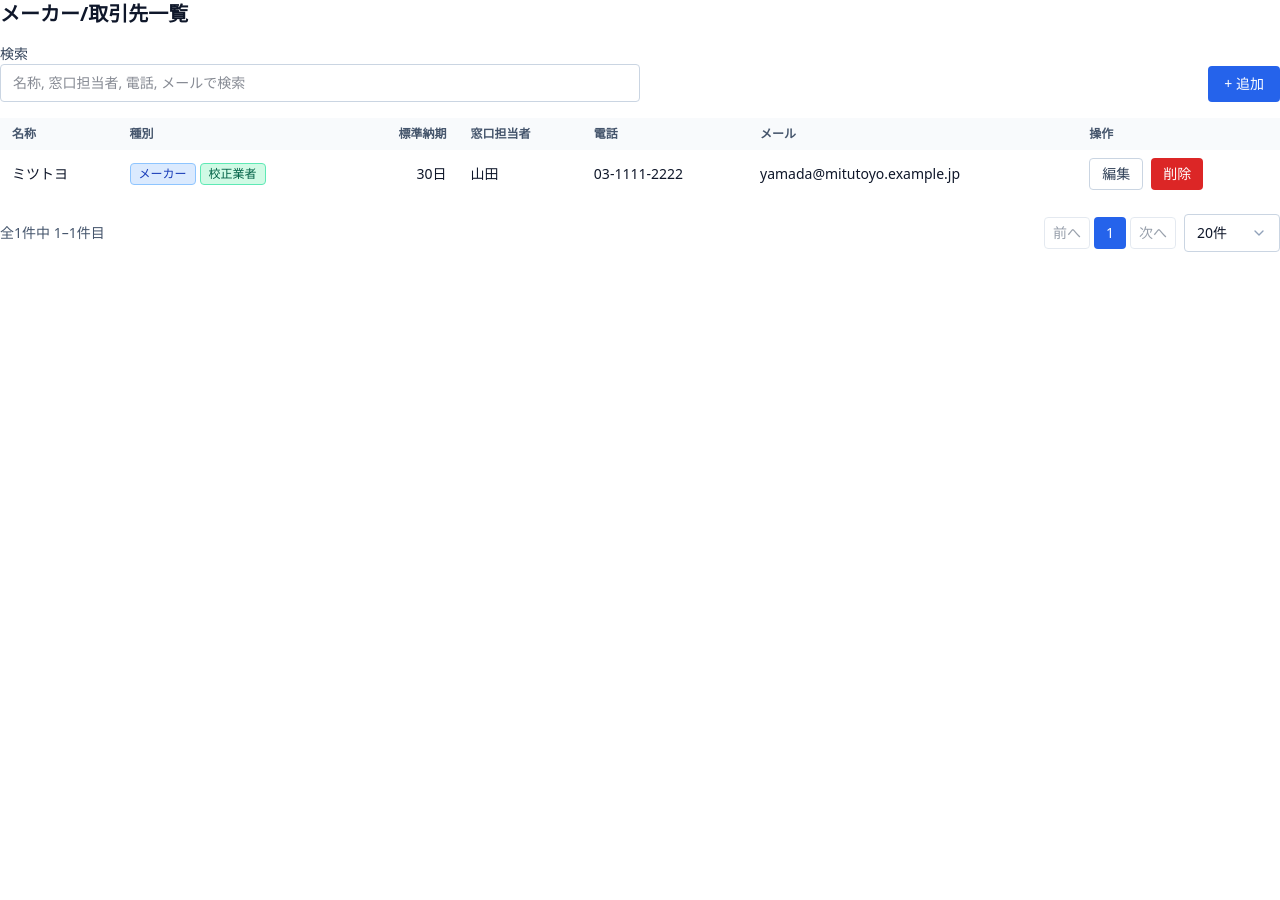
VendorList: 編集 › プリフィルされた値を変更して保存すると一覧に反映される
Click the button "編集".
click(1116, 174)  # box [1089, 158, 1143, 190]
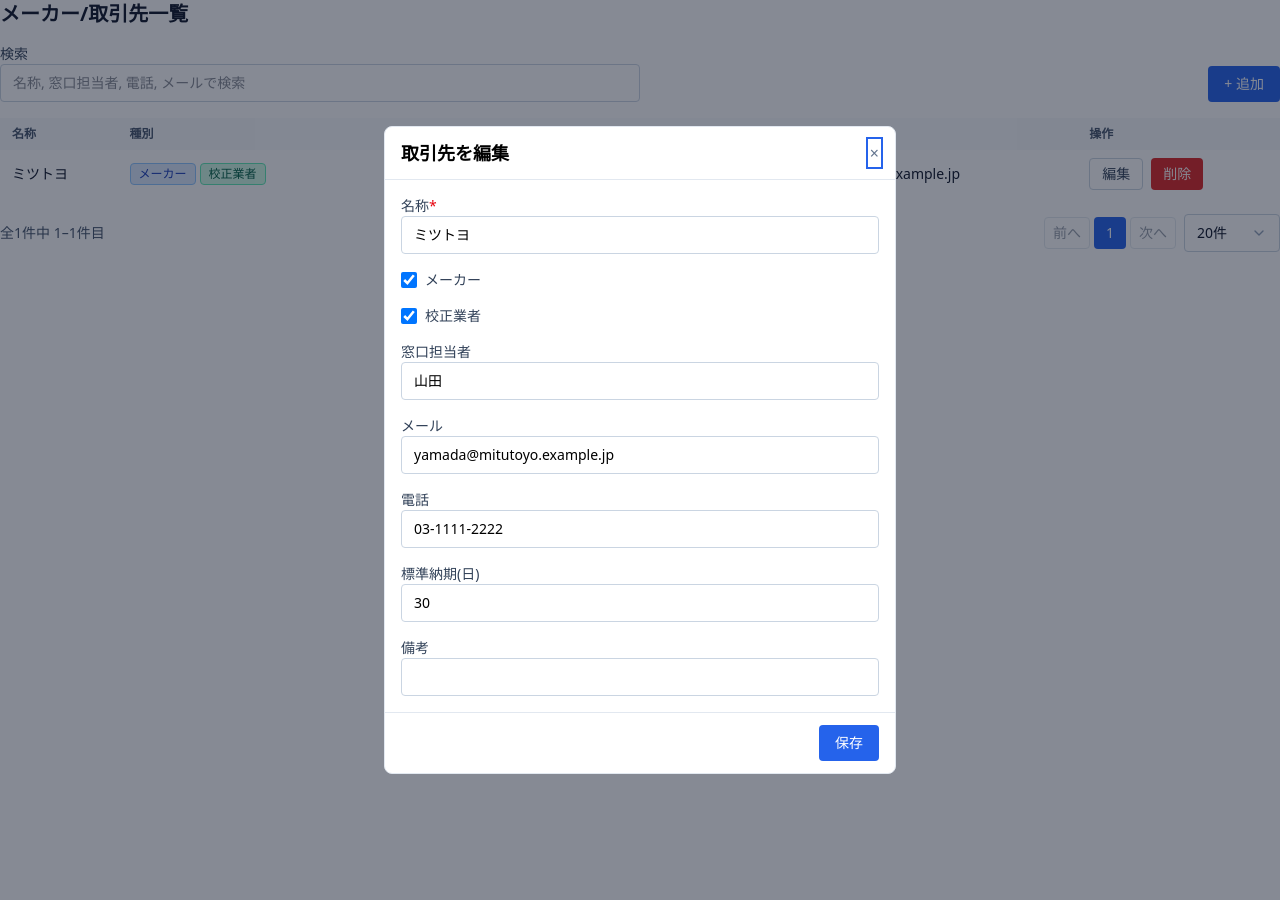
Expected: the field labelled "名称" holds "ミツトヨ"
Replace the text in the field labelled "名称" with "ミツトヨ株式会社" at (640, 235), box [401, 216, 879, 254]
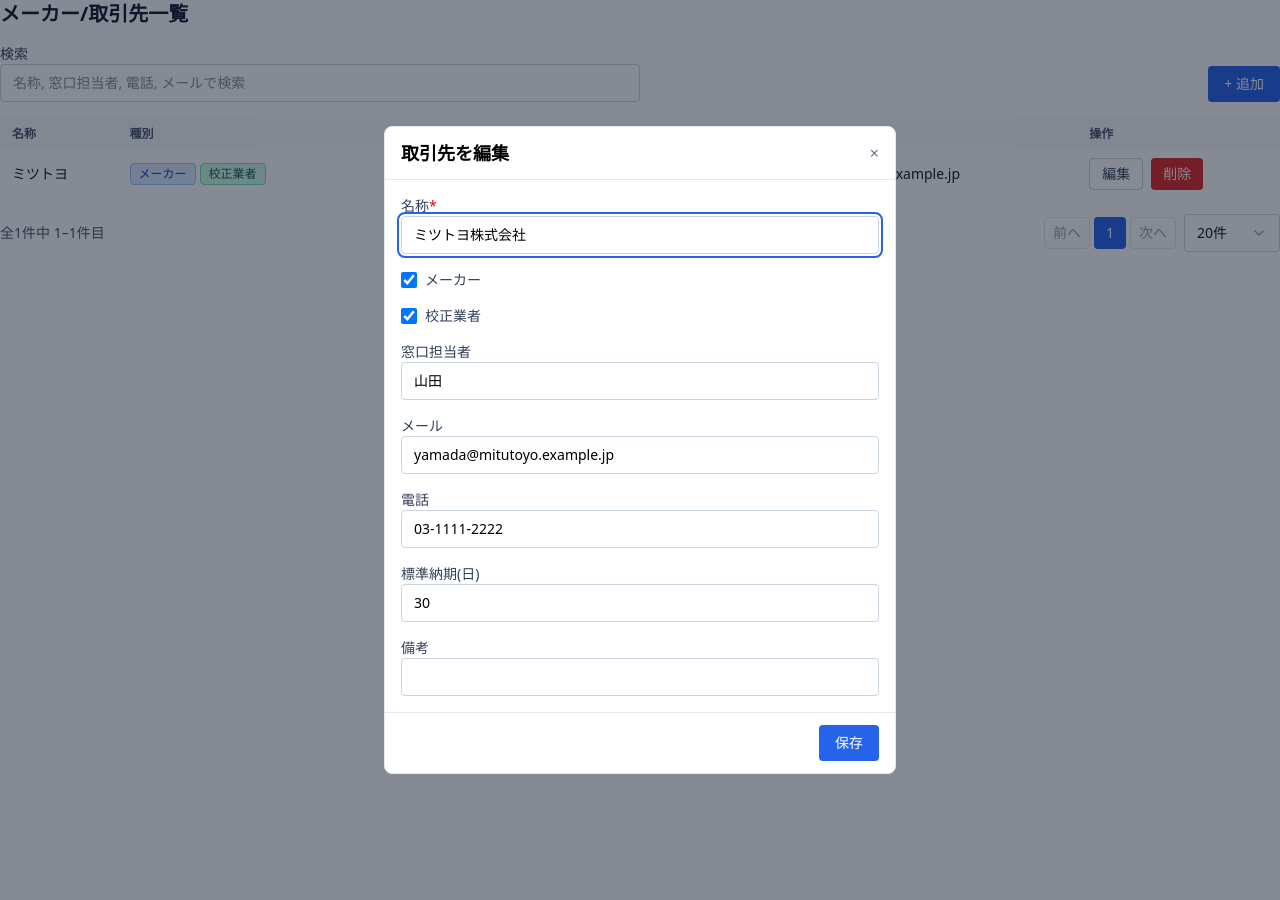
Click the button "保存".
click(849, 743)  # box [819, 725, 879, 761]
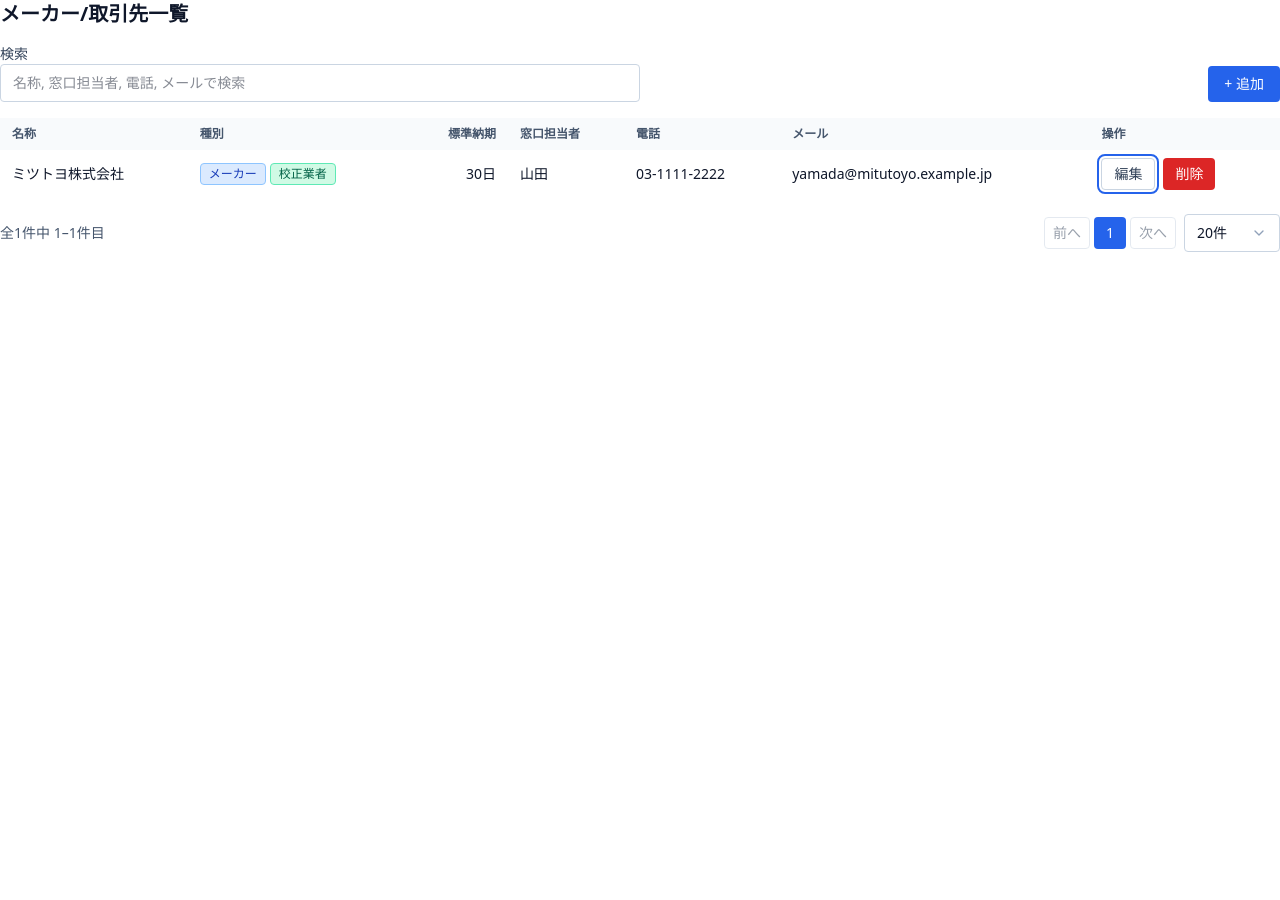
Expected: the row "ミツトヨ株式会社" is shown, [0, 150, 1279, 198]
